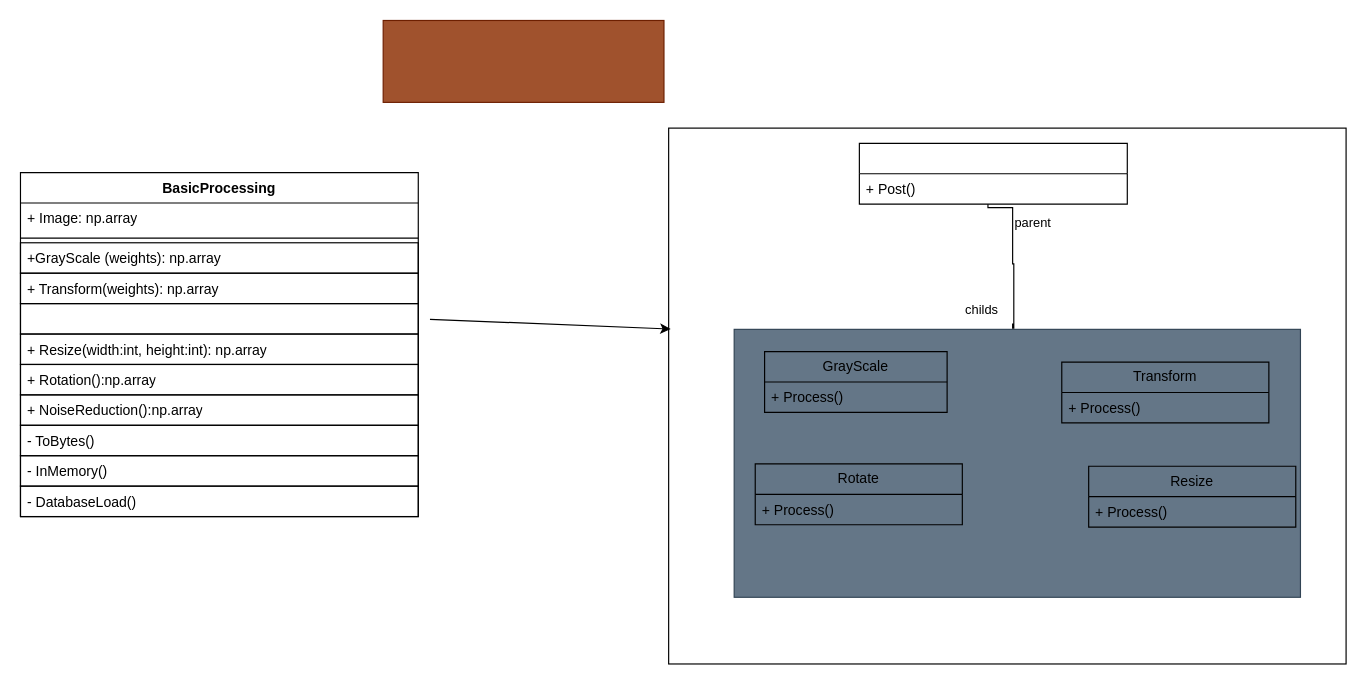
This 1367x684 diagram has some shape labels left out. The shapes that lost their labels are listed below. From the top down, each one's box as (x1, y1, x2, y2) in pixels, then its label:
(382, 19, 664, 102): Image processing lib UML First version (In memory handling)
(858, 142, 1127, 204): BasicImageProcessingView
(19, 302, 418, 334): + ChannelWeights(weights): np.array
